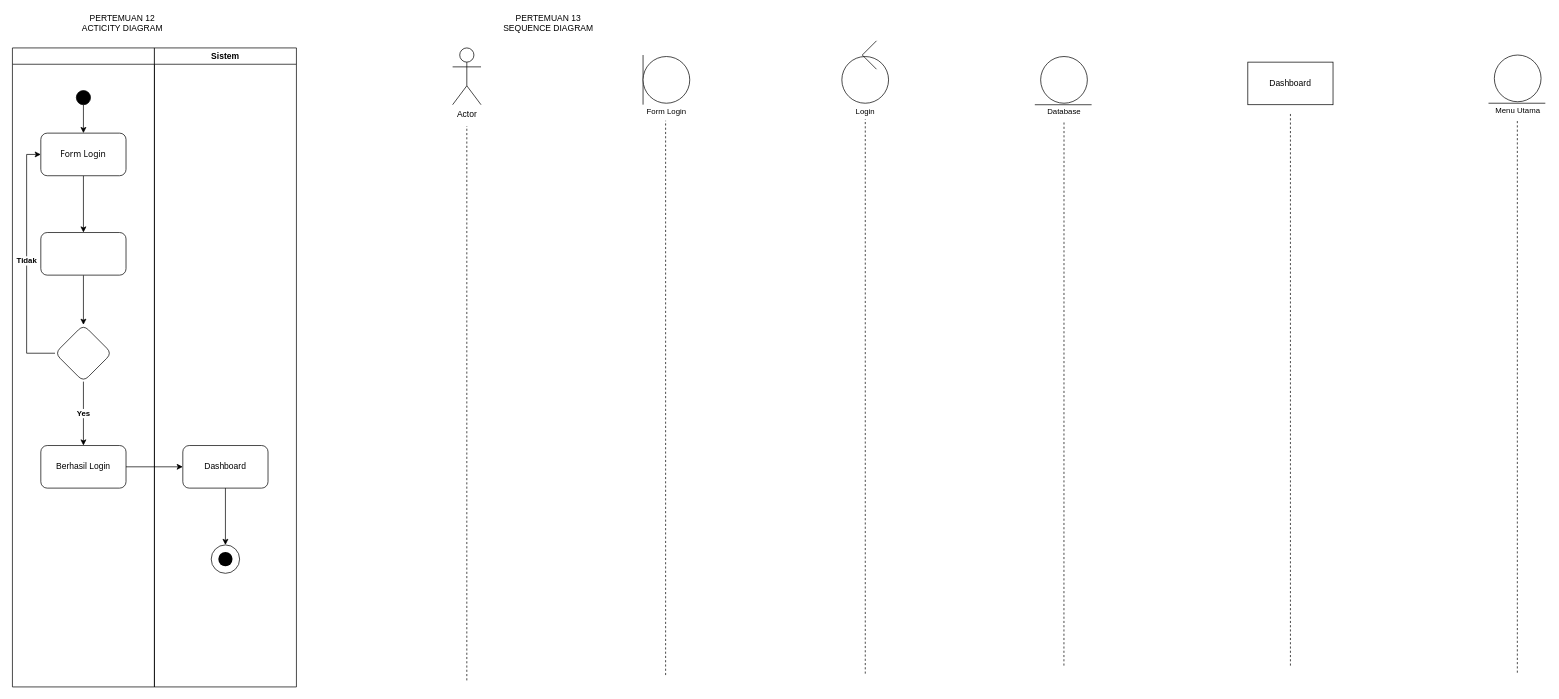
Some shapes in this 1559 by 699 pixel diagram are drawn without their labels. Each missing label, with the box of its shape:
Input Username & Password: (40, 232, 126, 275)
Mahasigma: (12, 47, 154, 687)
Proses: (54, 324, 112, 382)
